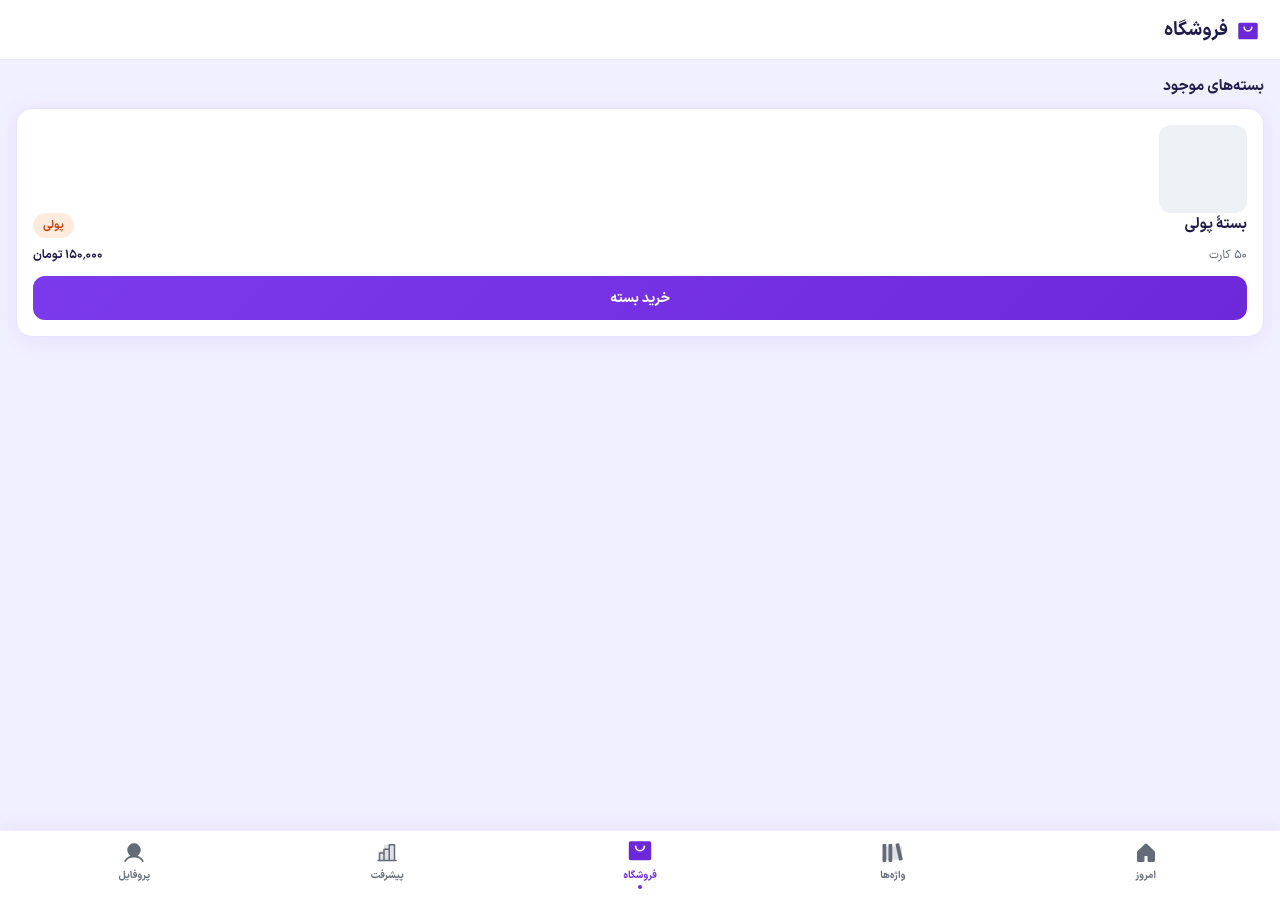
Test case: M2.4 Store purchase CTA › does not redirect when the server returns no gateway URL
Click the button "خرید بسته": coordinates (640, 298) [33,276,1247,320]
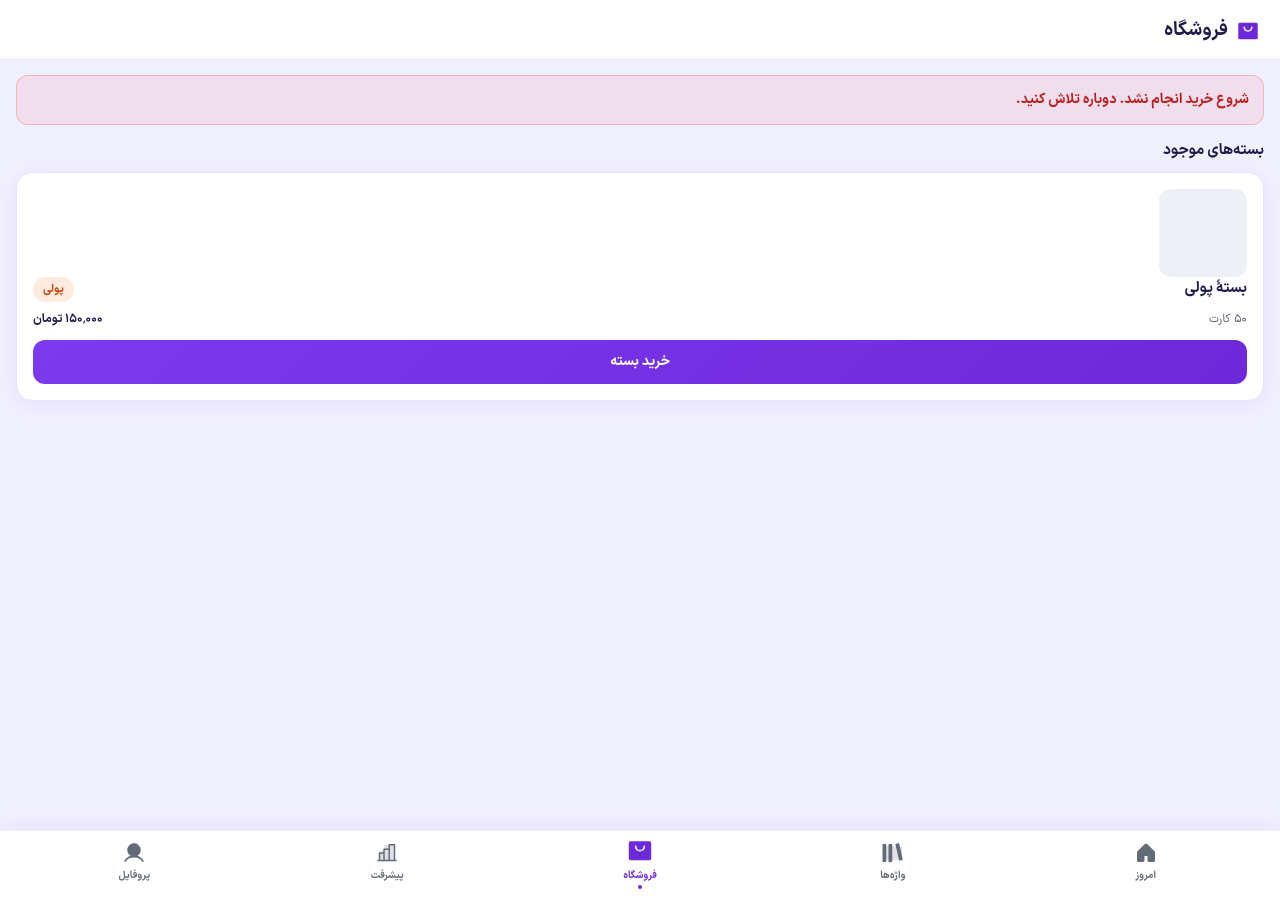
Check: the text "شروع خرید انجام نشد" is shown, box [1016,89,1249,110]
